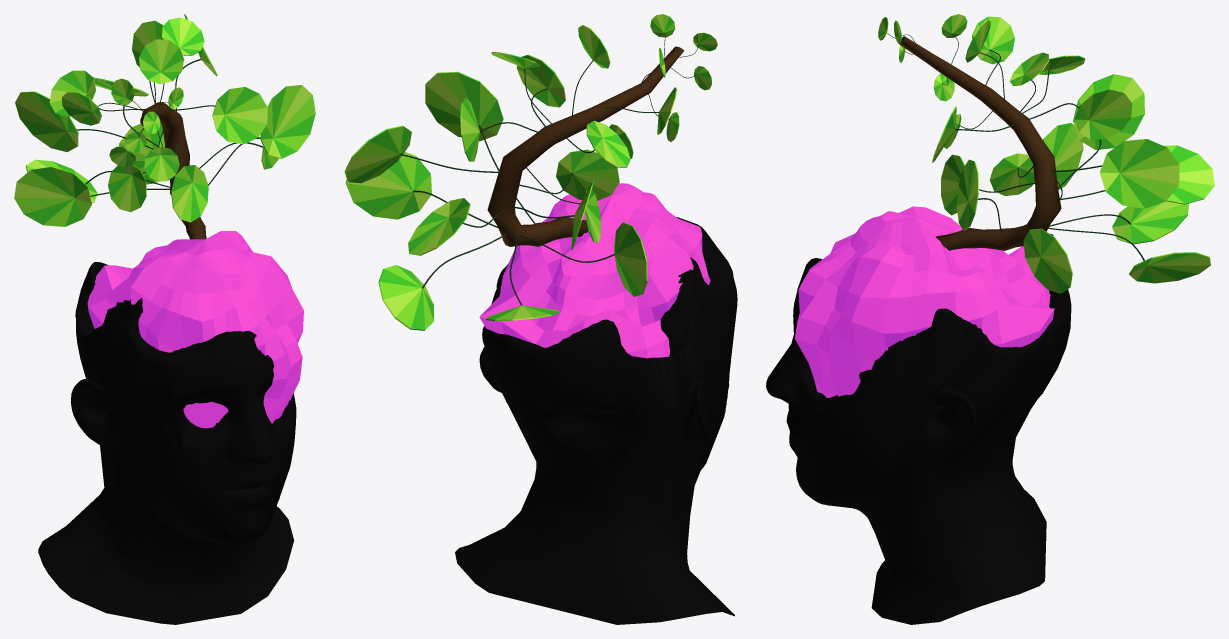
File: statue-iqra.fbx
3 renders of one model, left to right at view 1: azimuth 30°, elevation 25°; view 2: azimuth 150°, elevation 25°; view 3: azimuth 270°, elevation 25°, orthographic. The views are drawn at different scales.
Parts seen in each view (by area): view 1: FaceBuilderHead, Sphere, BezierCurve.004, BezierCurve.006, BezierCurve.002, BezierCurve.007, trunk, BezierCurve.012, BezierCurve.015, BezierCurve.013, BezierCurve, BezierCurve.003 (+7 smaller); view 2: FaceBuilderHead, Sphere, trunk, BezierCurve.005, BezierCurve.006, BezierCurve.009, BezierCurve.010, BezierCurve.012, BezierCurve.004, BezierCurve.008, BezierCurve.002, BezierCurve (+5 smaller); view 3: FaceBuilderHead, Sphere, trunk, BezierCurve.010, BezierCurve.014, BezierCurve.011, BezierCurve.005, BezierCurve.007, BezierCurve.009, BezierCurve.008, BezierCurve.004, BezierCurve.013 (+5 smaller).
Boxes of the visible parts, bbox=[...] form: FaceBuilderHead: bbox=[38, 262, 296, 624]; Sphere: bbox=[87, 231, 303, 428]; BezierCurve.004: bbox=[14, 166, 170, 226]; BezierCurve.006: bbox=[208, 85, 315, 185]; BezierCurve.002: bbox=[168, 87, 267, 144]; BezierCurve.007: bbox=[15, 91, 153, 151]; trunk: bbox=[140, 102, 206, 239]; BezierCurve.012: bbox=[171, 144, 208, 222]; BezierCurve.015: bbox=[139, 39, 184, 105]; BezierCurve.013: bbox=[108, 127, 164, 212]; BezierCurve: bbox=[49, 70, 144, 117]; BezierCurve.003: bbox=[159, 17, 204, 102]; FaceBuilderHead: bbox=[455, 217, 737, 624]; Sphere: bbox=[479, 183, 710, 358]; trunk: bbox=[487, 46, 683, 246]; BezierCurve.005: bbox=[345, 152, 497, 227]; BezierCurve.006: bbox=[425, 71, 535, 223]; BezierCurve.009: bbox=[378, 233, 506, 330]; BezierCurve.010: bbox=[344, 125, 500, 183]; BezierCurve.012: bbox=[519, 149, 619, 200]; BezierCurve.004: bbox=[520, 222, 647, 296]; BezierCurve.008: bbox=[408, 198, 503, 255]; BezierCurve.002: bbox=[516, 54, 565, 126]; BezierCurve: bbox=[561, 121, 630, 167]; FaceBuilderHead: bbox=[766, 258, 1071, 624]; Sphere: bbox=[794, 206, 1054, 397]; trunk: bbox=[899, 36, 1061, 250]; BezierCurve.010: bbox=[1050, 139, 1179, 208]; BezierCurve.014: bbox=[1049, 201, 1188, 244]; BezierCurve.011: bbox=[1029, 89, 1132, 139]; BezierCurve.005: bbox=[1023, 228, 1072, 293]; BezierCurve.007: bbox=[1058, 74, 1144, 188]; BezierCurve.009: bbox=[1048, 227, 1210, 283]; BezierCurve.008: bbox=[1060, 145, 1214, 204]; BezierCurve.004: bbox=[1034, 123, 1083, 198]; BezierCurve.013: bbox=[989, 153, 1034, 195].
Bounding box in the file's own units: 204 × 357 × 254.
